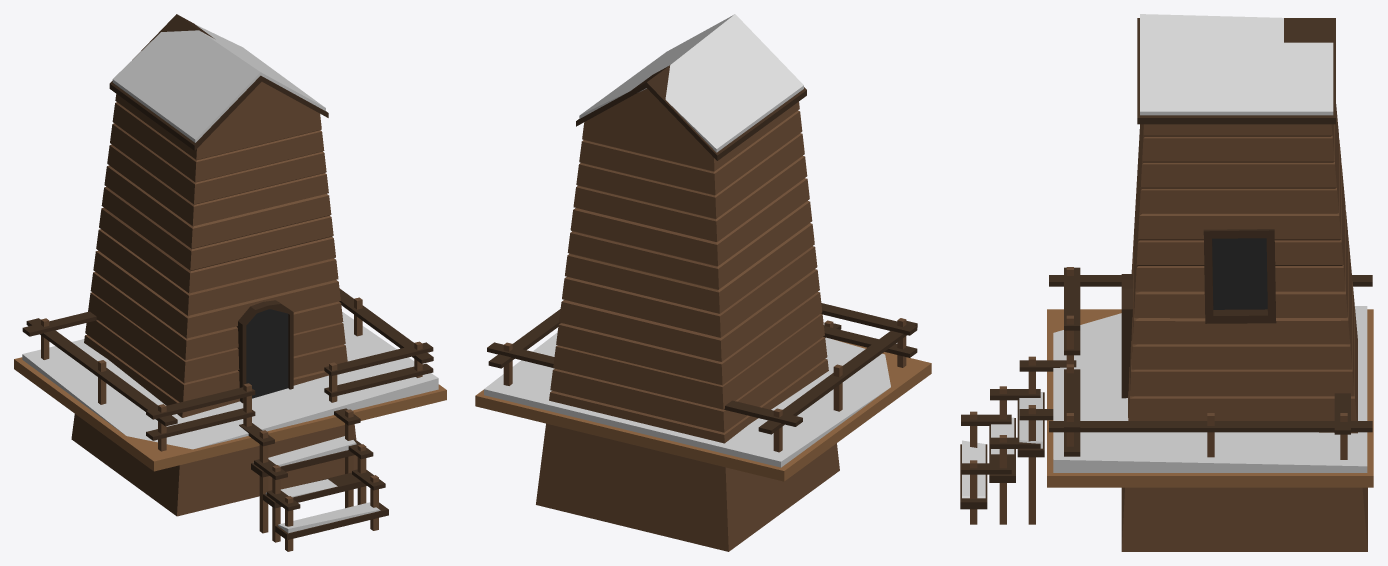
The model's file is windmill_2_snow_mat.fbx.
3 renders of one model, left to right at view 1: azimuth 30°, elevation 25°; view 2: azimuth 150°, elevation 25°; view 3: azimuth 270°, elevation 25°, orthographic. The views are drawn at different scales.
Visible parts, largest first — view 1: windmill_2_snow_mat; view 2: windmill_2_snow_mat; view 3: windmill_2_snow_mat.
Part boxes in pixels (left/top/right/bottom): windmill_2_snow_mat: left=14, top=14, right=446, bottom=551; windmill_2_snow_mat: left=475, top=14, right=931, bottom=551; windmill_2_snow_mat: left=960, top=14, right=1373, bottom=551.
Bounding box in the file's own units: 407 × 550 × 424.
